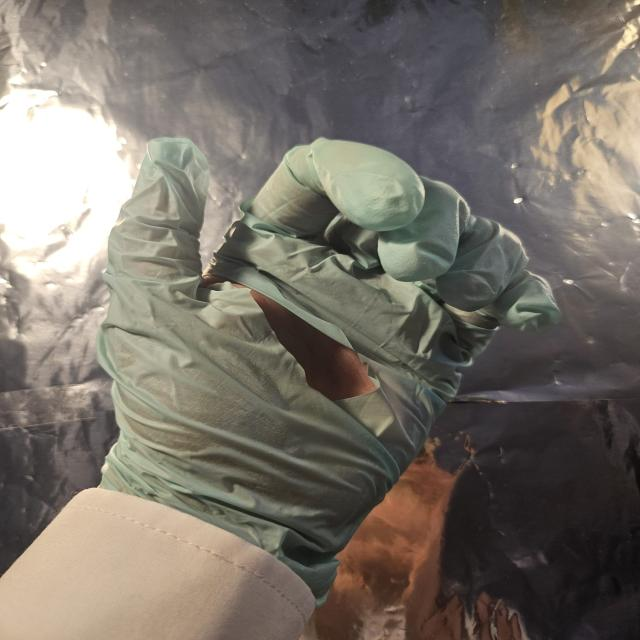gloves_damaged: (92, 131, 565, 590)
